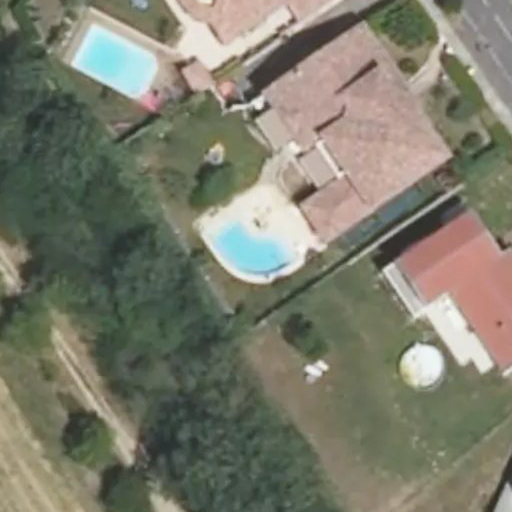pool: (212, 232, 299, 254)
